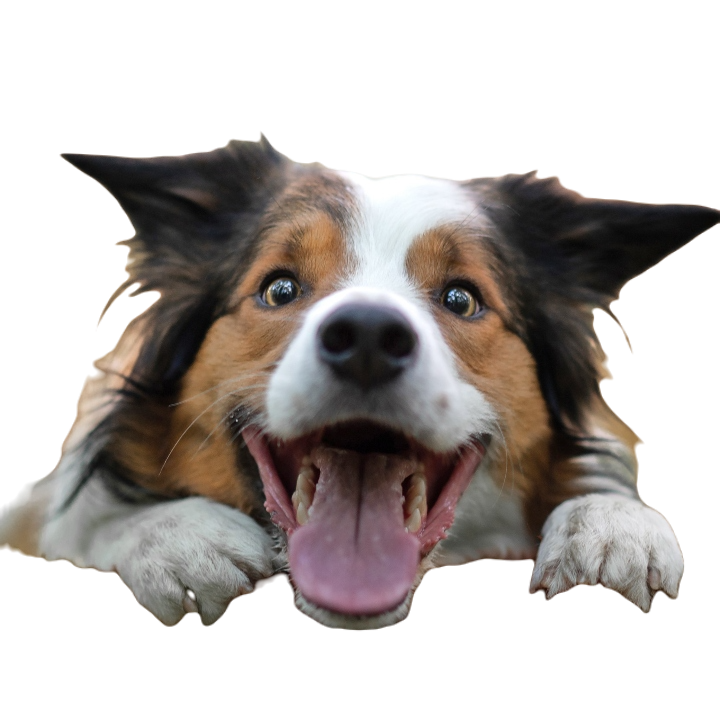Dog: (0, 141, 720, 632)
